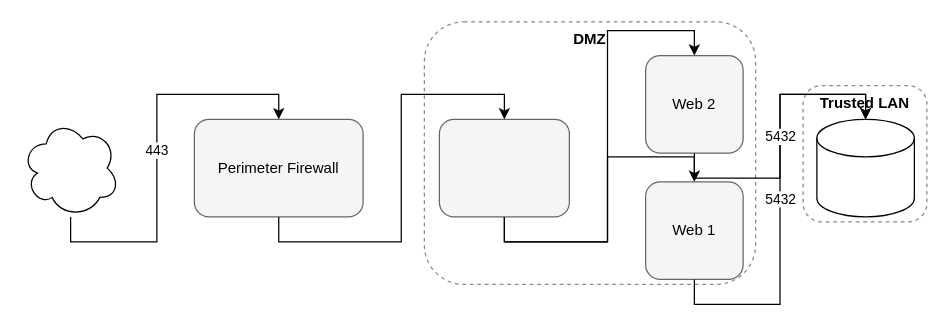
Some shapes in this 949 by 336 pixel diagram are drawn without their labels. The shapes that lost their labels are listed below. From the top down, each one's centre as x and y in pixels, then its label:
the point at 70,167: Internet
the point at 503,167: Load Balancer
the point at 865,167: Database
